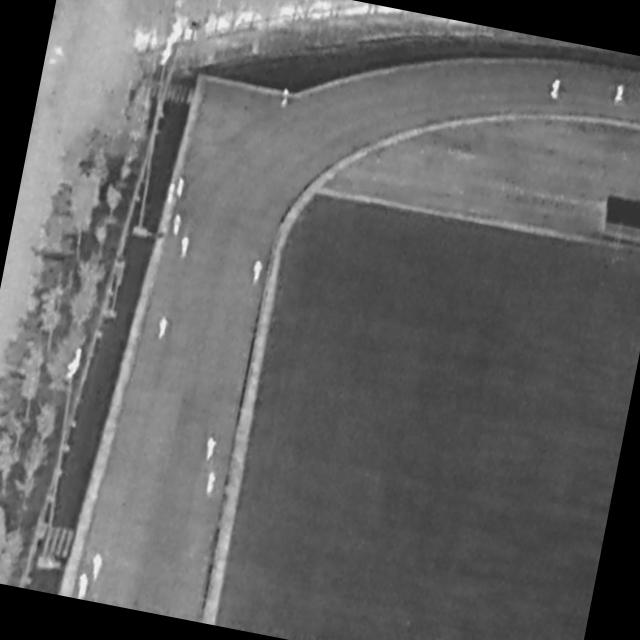person: (91, 554, 106, 583), (251, 260, 266, 287), (77, 574, 92, 601), (205, 437, 220, 463), (180, 234, 193, 260), (206, 471, 219, 497), (550, 77, 564, 101), (158, 317, 171, 342), (172, 213, 184, 237), (280, 87, 292, 111), (614, 84, 627, 105), (167, 182, 178, 204), (176, 178, 187, 199)
